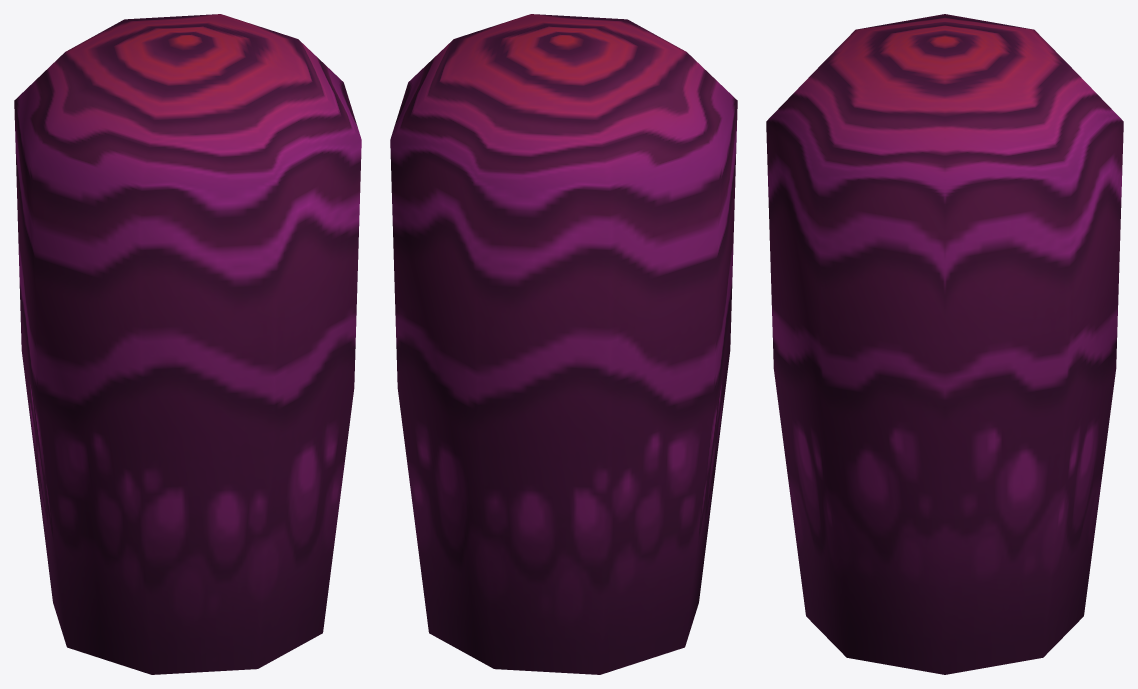
Rendered from Coral_35d.FBX.
3 views of the same model, side by side, from view 1: azimuth 30°, elevation 25°; view 2: azimuth 150°, elevation 25°; view 3: azimuth 270°, elevation 25° (orthographic).
Visible parts, largest first — view 1: Coral_35d; view 2: Coral_35d; view 3: Coral_35d.
Boxes of the visible parts, <box> form: Coral_35d: <box>14,14,361,674</box>; Coral_35d: <box>390,14,737,674</box>; Coral_35d: <box>766,14,1123,674</box>.
Size of the model in its own units: 11.22 by 19.97 by 11.22.
